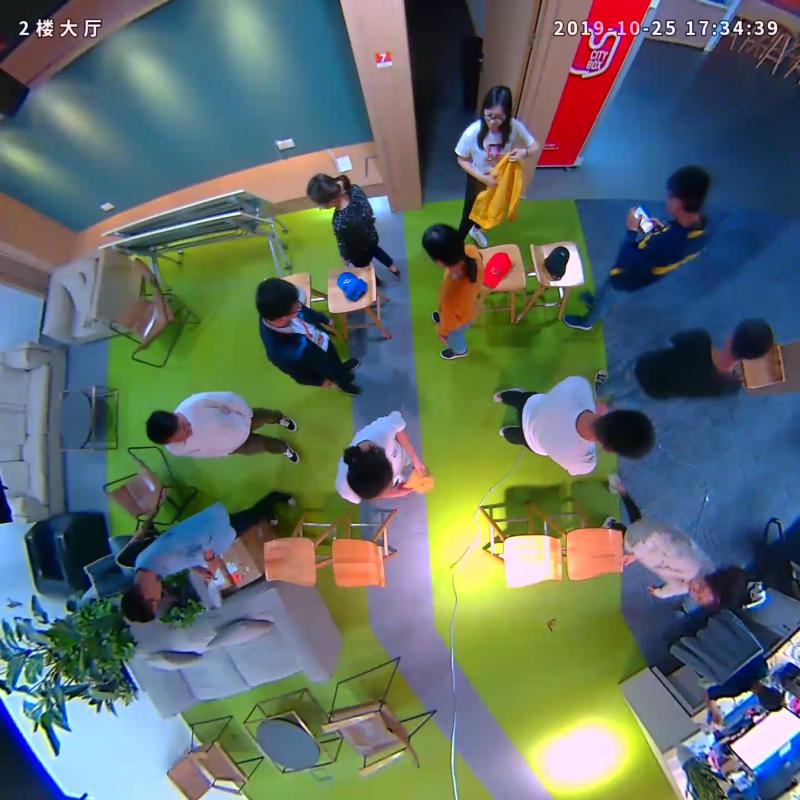head: (590, 405, 658, 465), (656, 161, 718, 225), (340, 444, 398, 505), (722, 313, 779, 369), (252, 271, 305, 331), (416, 222, 472, 274), (138, 404, 195, 451), (115, 577, 165, 629), (470, 81, 524, 129), (298, 169, 354, 213)
